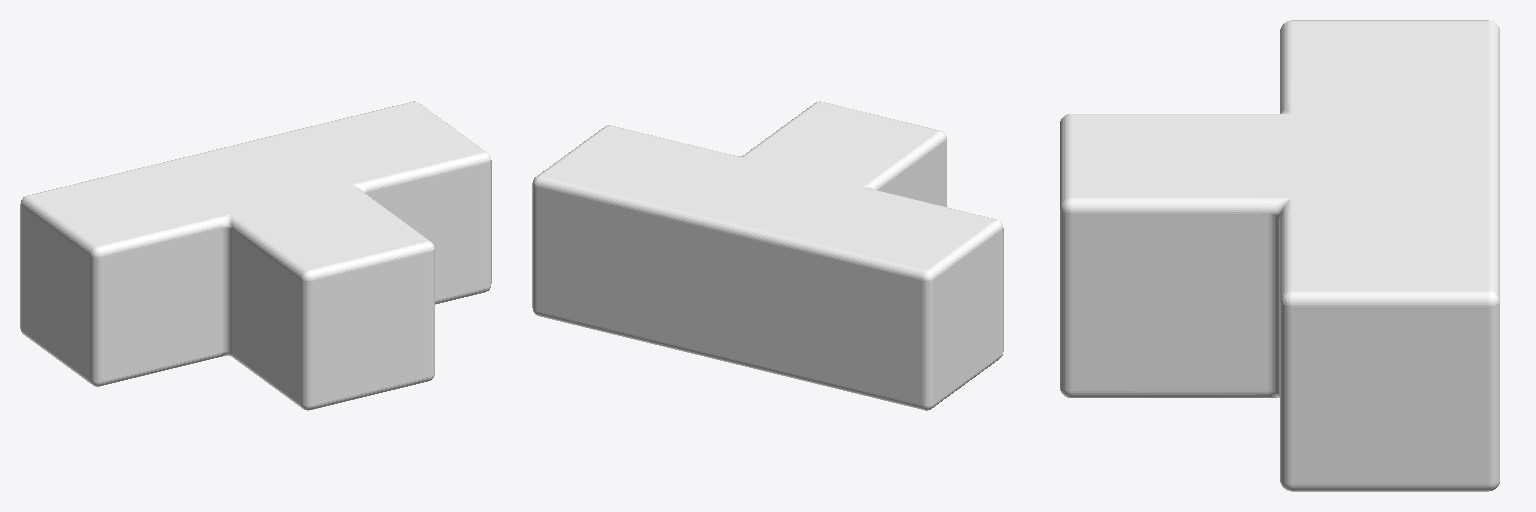
The robot description file, URDF, robot "cube1":
<robot name="cube1">
	<link name="baseLink">
    	<contact>
      		<lateral_friction value="0.5" />
      		<rolling_friction value="0.0" />
      		<contact_cfm value="0.0" />
      		<contact_erp value="1.0" />
    	</contact>
		<visual>
			<origin rpy="0.0 0.0 0.0" xyz="0.9999999999849425 -0.45505668224189666 -0.09000000017970532" />
			<geometry>
				<mesh filename="cubes/cube1.obj" scale="0.01 0.01 0.01" />
			</geometry>
			<material name="texture">
				<color rgba="1.0 1.0 1.0 1.0" />
			</material>
		</visual>
		<collision>
			<origin rpy="0.0 0.0 0.0" xyz="0.9999999999849425 -0.45505668224189666 -0.09000000017970532" />
			<geometry>
				<mesh filename="cubes/cube1_vhacd.obj" scale="0.01 0.01 0.01" />
			</geometry>
		</collision>
		<inertial>
			<origin rpy="0 0 0" xyz="0 0 0" />
			<mass value="0.5" />
			<inertia ixx="0.01" ixy="0.0" ixz="0.0" iyy="0.01" iyz="0.0" izz="0.01" />
		</inertial>
	</link>
</robot>

--- Render facts (derived) ---
Views: 3 orthographic renders of the robot side by side, from view 1: azimuth 30°, elevation 25°; view 2: azimuth 150°, elevation 25°; view 3: azimuth 270°, elevation 25°.
Model cube1 with 1 links and 0 joints (none), rooted at baseLink, posed every joint at zero.
Links seen in each view (by area): view 1: baseLink; view 2: baseLink; view 3: baseLink.
Boxes of the visible links, x1,y1,x2,y2 form: baseLink: (20, 101, 491, 410); baseLink: (532, 101, 1003, 410); baseLink: (1060, 20, 1499, 491).
Size in the robot's own frame: 0.54 by 0.36 by 0.18 metres.
1 mesh visuals loaded from 1 distinct referenced files (1 OBJ).